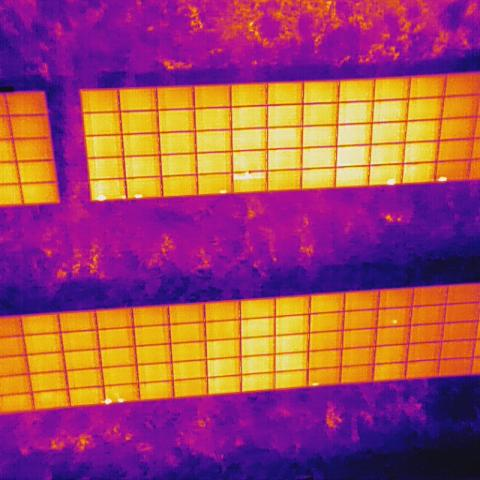fault: (232, 170, 264, 180), (436, 173, 450, 185), (308, 379, 324, 388), (101, 396, 115, 406), (93, 193, 108, 202), (385, 176, 397, 187), (116, 396, 127, 407), (219, 186, 229, 197), (133, 191, 143, 201), (390, 318, 400, 326)
